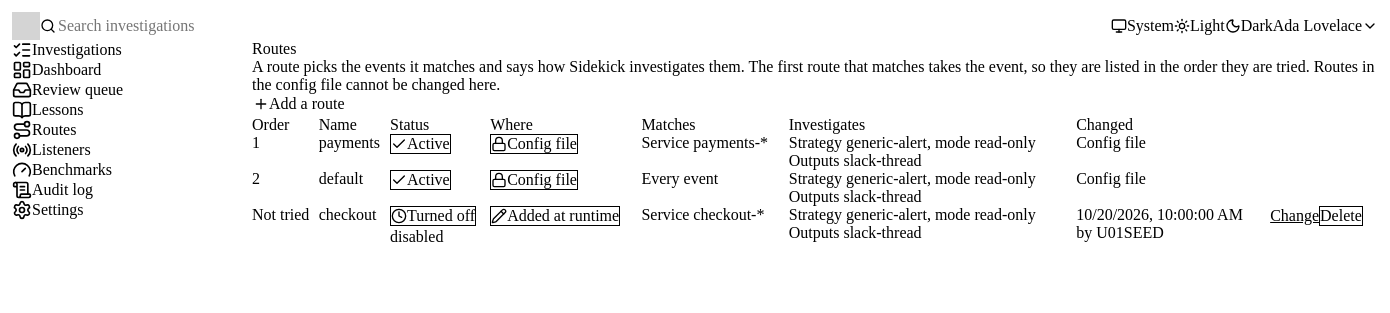
it: the routes page › deletes a route after asking, with the CSRF token
Click the button with aria-label "Delete route checkout".
click(1341, 216)  # box [1319,206,1363,226]
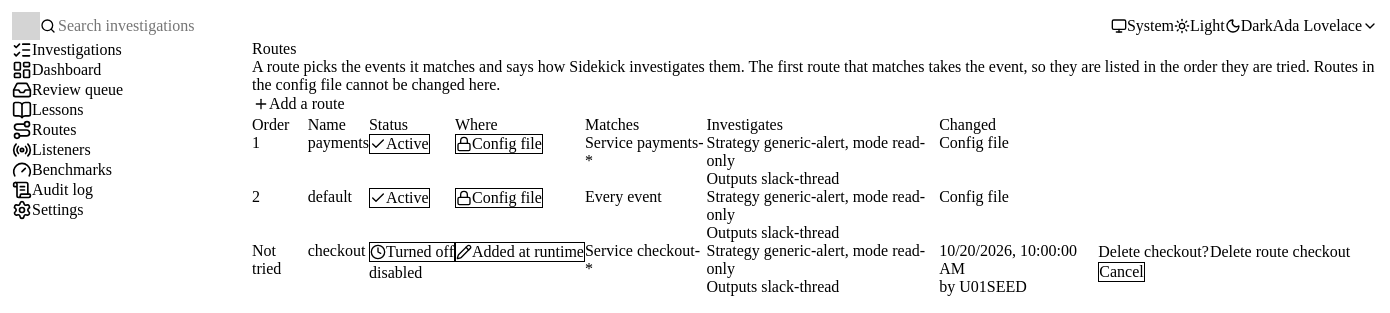
expect the text "Delete checkout?" is shown: met, box [1098,243,1209,261]
Click the button "Delete route checkout".
click(1280, 252)  # box [1209,242,1351,262]
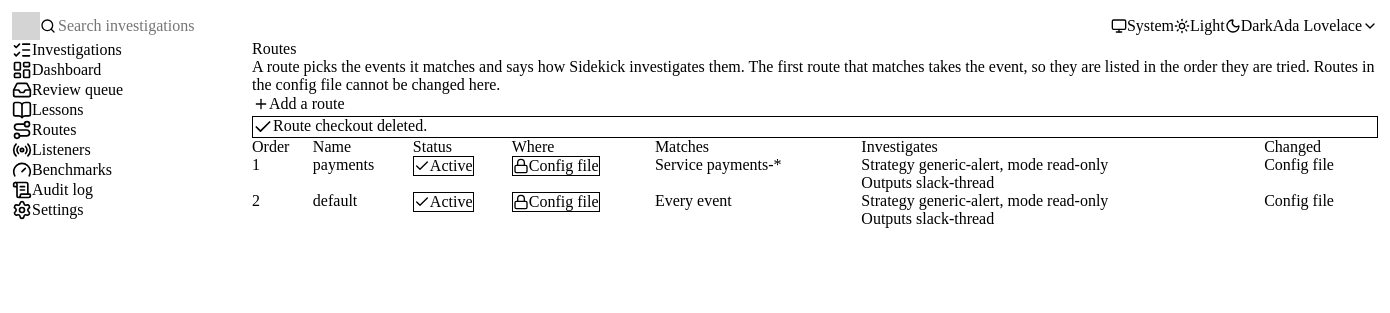
expect the heading "Route checkout deleted." is shown: met, box [273,117,427,135]
